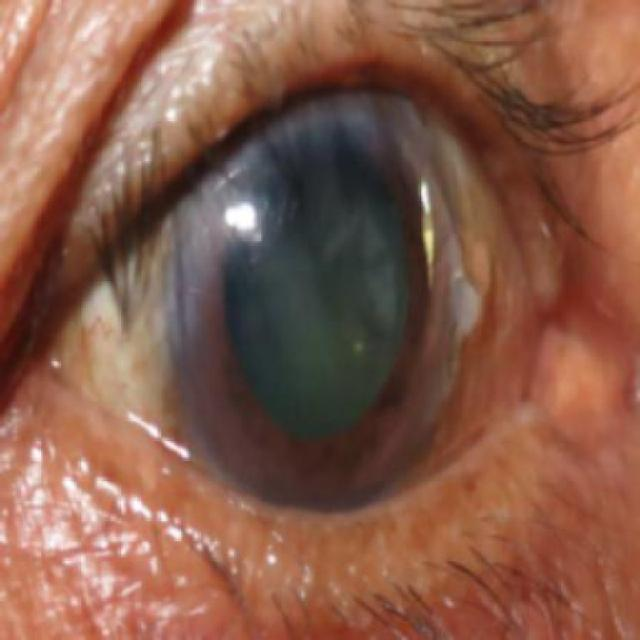Cataract: (162, 83, 466, 512)
